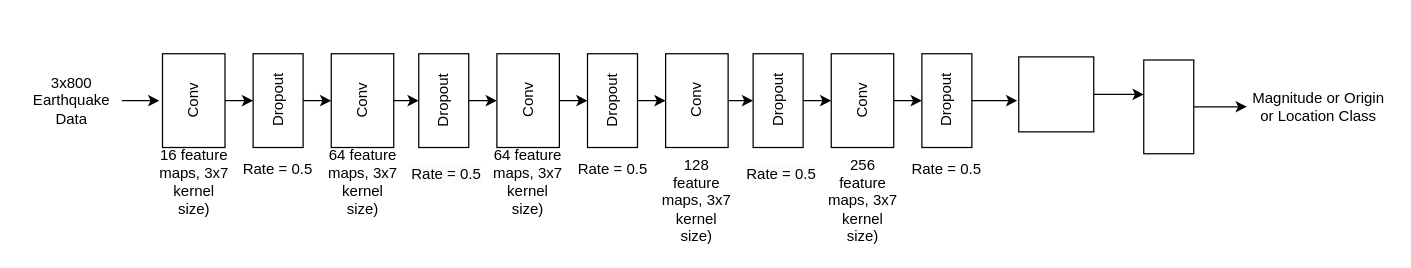
Some shapes in this 1411 by 268 pixel diagram are drawn without their labels. Here are the shapes that lost their labels. From the top down, the box of each, then its label:
(1018, 56, 1094, 132): Fully Connected (3 out)
(1142, 59, 1194, 154): Softmax
